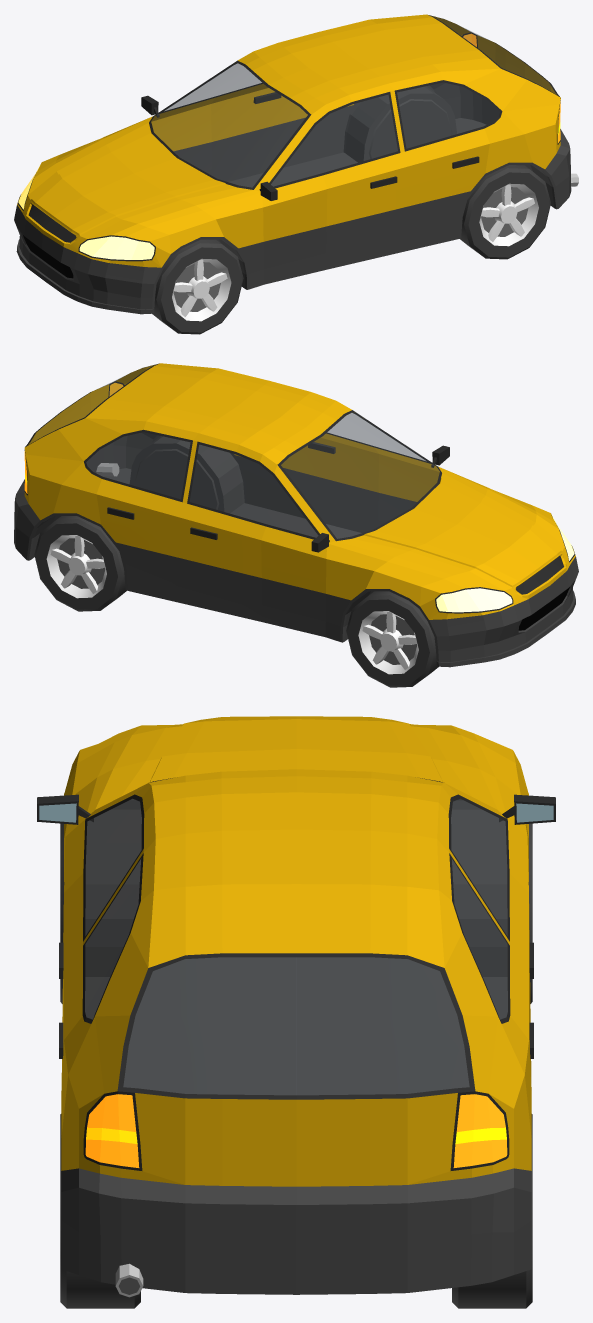
Rendered from hatchback.glb.
The picture shows the model from 3 angles, top to bottom: view 1: azimuth 30°, elevation 25°; view 2: azimuth 150°, elevation 25°; view 3: azimuth 270°, elevation 25°; orthographic projection. The views are drawn at different scales.
Visible parts, largest first — view 1: Hatchback Car_15, Hatchback Car_15 FL Tire, Hatchback Car_15 BL Tire, Hatchback Car_15 BR Tire; view 2: Hatchback Car_15, Hatchback Car_15 FR Tire, Hatchback Car_15 BR Tire, Hatchback Car_15 BL Tire; view 3: Hatchback Car_15, Hatchback Car_15 BR Tire, Hatchback Car_15 BL Tire.
Boxes of the visible parts, x1=… form: Hatchback Car_15: x1=14, y1=14, x2=578, y2=314; Hatchback Car_15 FL Tire: x1=152, y1=239, x2=243, y2=334; Hatchback Car_15 BL Tire: x1=460, y1=165, x2=550, y2=259; Hatchback Car_15 BR Tire: x1=369, y1=99, x2=452, y2=158; Hatchback Car_15: x1=14, y1=363, x2=578, y2=667; Hatchback Car_15 FR Tire: x1=346, y1=591, x2=438, y2=687; Hatchback Car_15 BR Tire: x1=34, y1=516, x2=126, y2=611; Hatchback Car_15 BL Tire: x1=134, y1=449, x2=219, y2=509; Hatchback Car_15: x1=37, y1=716, x2=555, y2=1297; Hatchback Car_15 BR Tire: x1=452, y1=1114, x2=532, y2=1308; Hatchback Car_15 BL Tire: x1=60, y1=1114, x2=140, y2=1308.
Bounding box in the file's own units: 4.21 × 1.52 × 1.92.
Materials: 3 (2 with a texture image).
